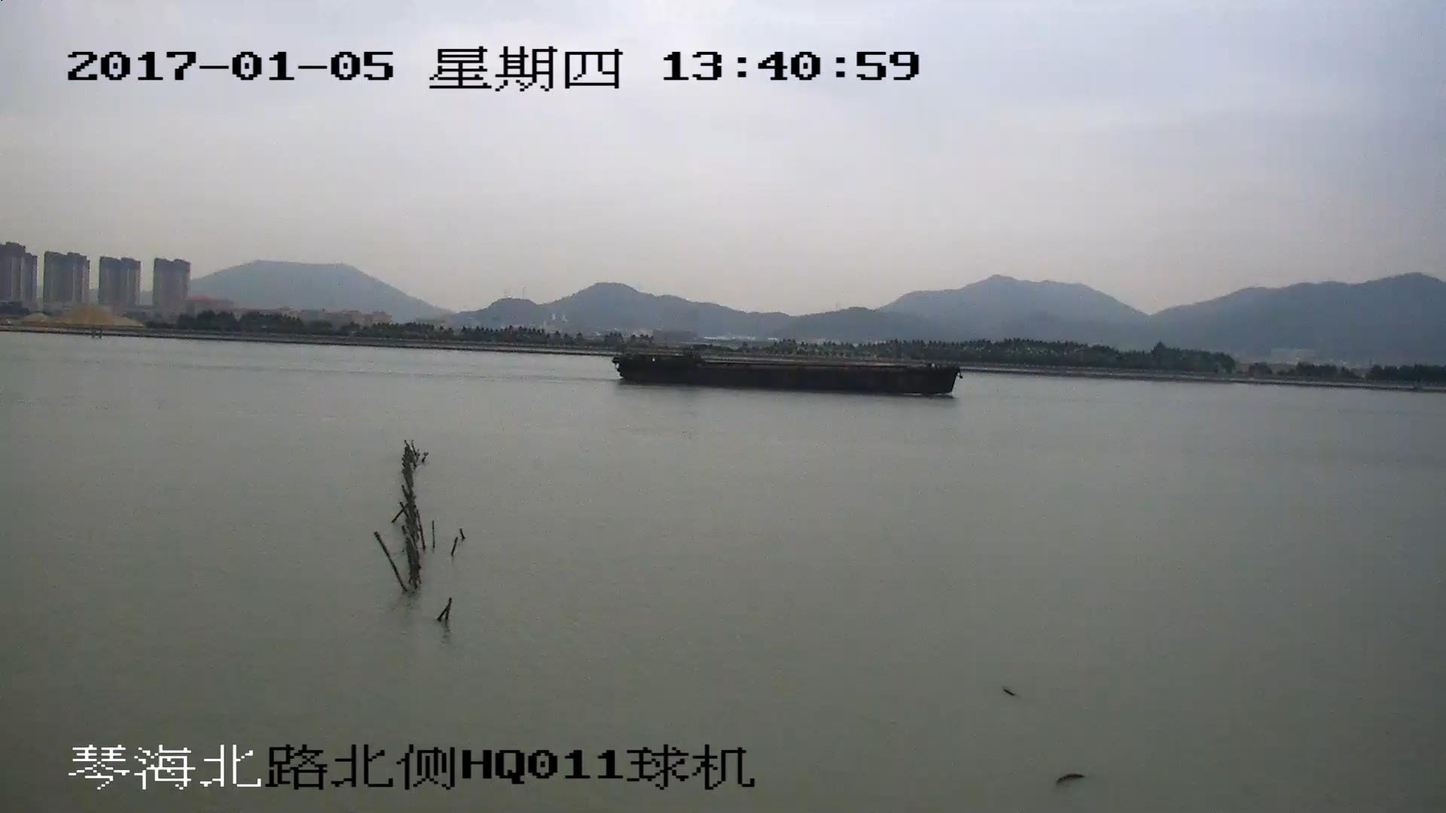bulk cargo carrier: (611, 348, 960, 391)
